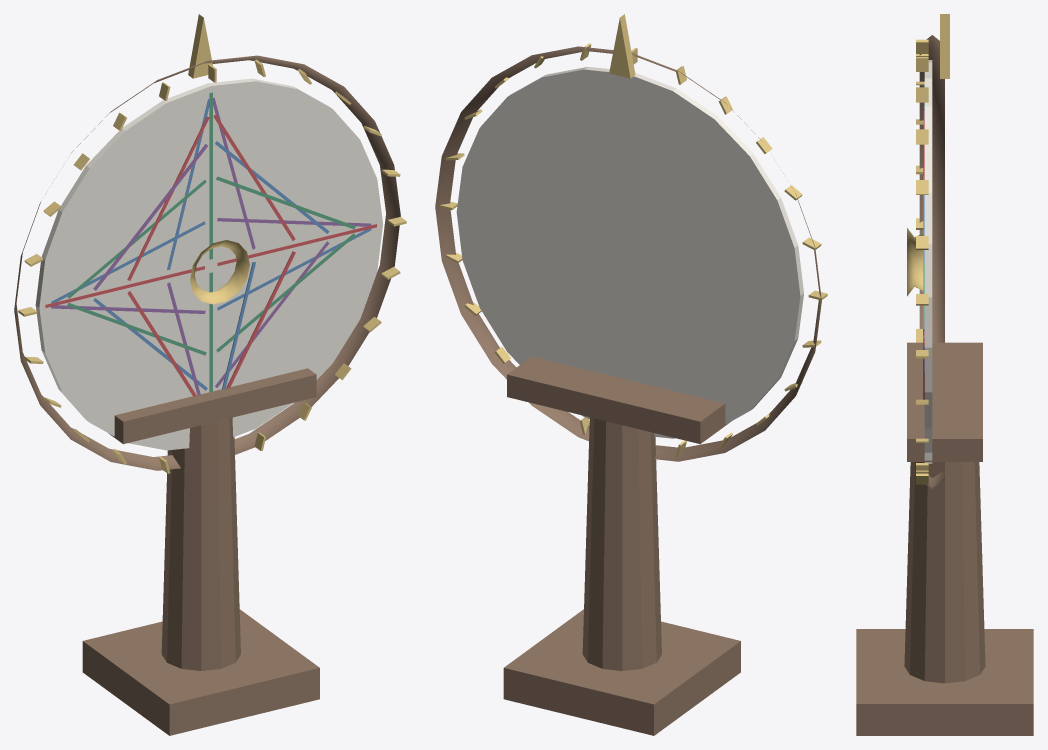
The model's file is casino-floor-and-back-rooms-wheel-of-fortune-b74d8557__27008.glb.
The picture shows the model from 3 angles, left to right: view 1: azimuth 30°, elevation 25°; view 2: azimuth 150°, elevation 25°; view 3: azimuth 270°, elevation 25°; orthographic projection. The views are drawn at different scales.
Visible parts, largest first — view 1: wheel (×7), wheel-of-fortune; view 2: wheel (×3), wheel-of-fortune; view 3: wheel-of-fortune, wheel (×3).
Part boxes in pixels (box(x1,y1,x2,y2)): wheel (×7): box(14, 55, 406, 473); wheel-of-fortune: box(82, 14, 319, 735); wheel (×3): box(435, 43, 827, 461); wheel-of-fortune: box(503, 14, 740, 735); wheel-of-fortune: box(856, 14, 1033, 735); wheel (×3): box(907, 35, 944, 489).
Bounding box in the file's own units: 1.8 × 2.98 × 0.7.
